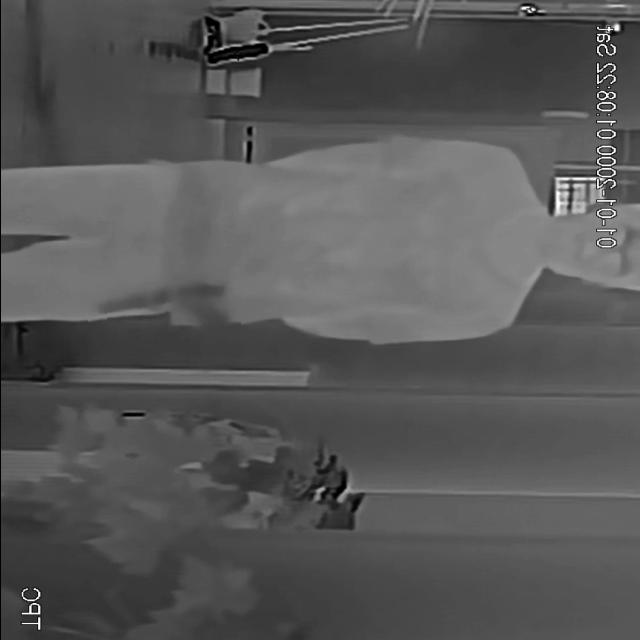Weapon: (87, 274, 240, 334)
